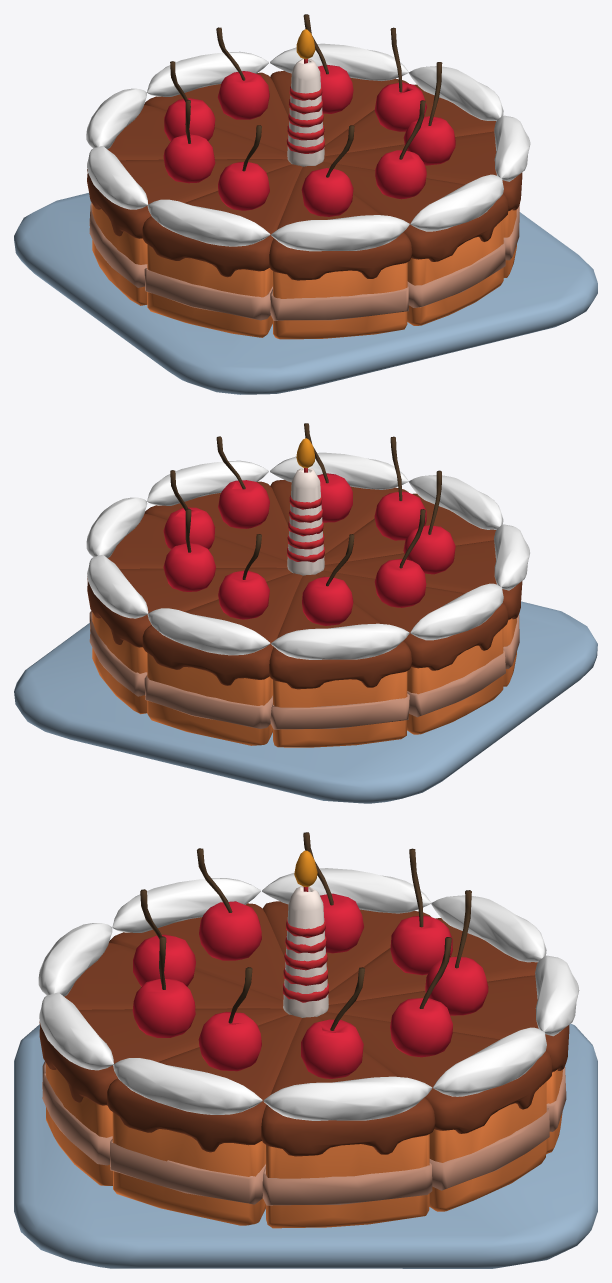
The model's file is BirthdayCake.fbx.
The picture shows the model from 3 angles, top to bottom: view 1: azimuth 30°, elevation 25°; view 2: azimuth 150°, elevation 25°; view 3: azimuth 270°, elevation 25°; orthographic projection. The views are drawn at different scales.
Visible parts, largest first — view 1: Choco Topping.001, Plate.001, Whiped Cream.001, Cake Base.001, Cherries.001, Side Decoration.001, Cherries Stem.001, Candle.001, Candle.002; view 2: Choco Topping.001, Plate.001, Whiped Cream.001, Cake Base.001, Cherries.001, Side Decoration.001, Cherries Stem.001, Candle.001, Candle.002; view 3: Choco Topping.001, Plate.001, Whiped Cream.001, Cake Base.001, Cherries.001, Side Decoration.001, Cherries Stem.001, Candle.001, Candle.002, Fire.001.
Part boxes in pixels (x1,y1,x2,y2): Choco Topping.001: (87, 71, 522, 280); Plate.001: (14, 193, 597, 394); Whiped Cream.001: (86, 43, 530, 251); Cake Base.001: (92, 204, 516, 339); Cherries.001: (163, 64, 455, 216); Side Decoration.001: (89, 202, 519, 320); Cherries Stem.001: (170, 14, 442, 177); Candle.001: (287, 58, 324, 166); Candle.002: (286, 59, 324, 153); Choco Topping.001: (87, 480, 522, 689); Plate.001: (14, 601, 597, 803); Whiped Cream.001: (86, 452, 529, 659); Cake Base.001: (92, 612, 516, 747); Cherries.001: (163, 473, 455, 625); Side Decoration.001: (89, 610, 519, 729); Cherries Stem.001: (170, 423, 441, 586); Candle.001: (287, 468, 324, 575); Candle.002: (287, 468, 324, 562); Choco Topping.001: (39, 901, 569, 1156); Plate.001: (14, 1023, 597, 1268); Whiped Cream.001: (38, 868, 579, 1120); Cake Base.001: (46, 1063, 562, 1228); Cherries.001: (132, 893, 488, 1078); Side Decoration.001: (42, 1061, 566, 1205); Cherries Stem.001: (140, 832, 471, 1030); Candle.001: (283, 886, 328, 1017); Candle.002: (283, 887, 329, 1002); Fire.001: (294, 850, 317, 886).
Bounding box in the file's own units: 222 × 126 × 222.
